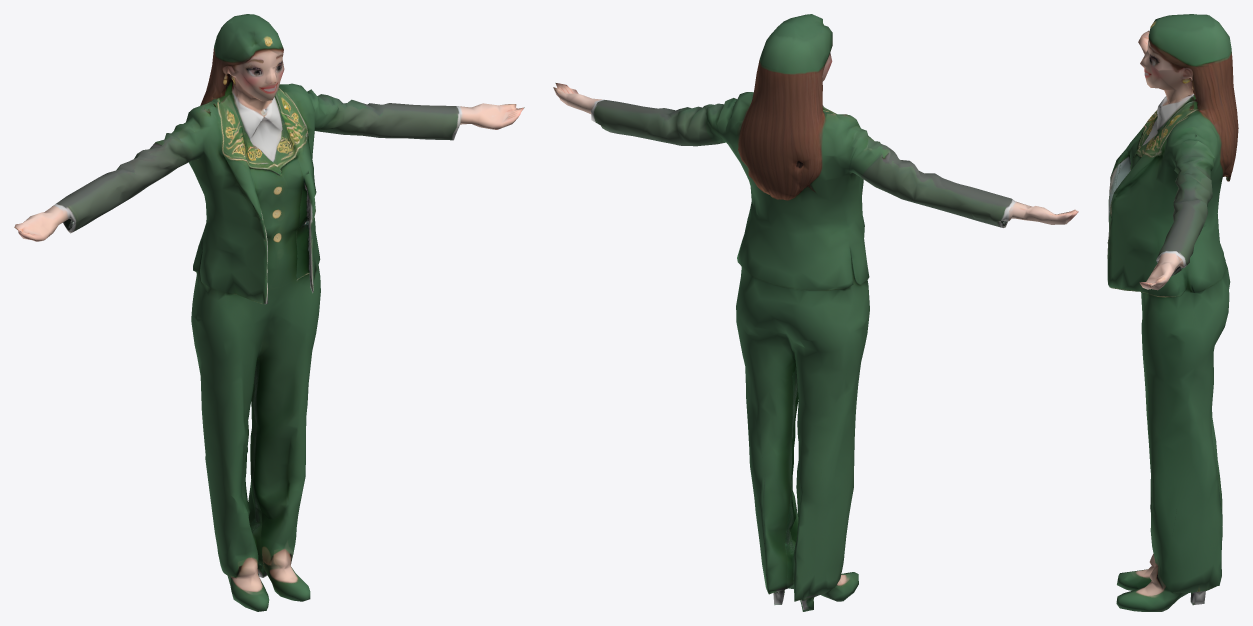
The model's file is recepcionista.obj.
3 views of the same model, side by side, from view 1: azimuth 30°, elevation 25°; view 2: azimuth 150°, elevation 25°; view 3: azimuth 270°, elevation 25° (orthographic). The views are drawn at different scales.
Parts seen in each view (by area): view 1: recepcionista; view 2: recepcionista; view 3: recepcionista.
Boxes of the visible parts, x1,y1,x2,y2 form: recepcionista: (14, 14, 524, 611); recepcionista: (553, 14, 1078, 611); recepcionista: (1107, 14, 1238, 611).
Size of the model in its own units: 4.41 by 4.69 by 0.9594.
Materials: 1 (1 with a texture image).
